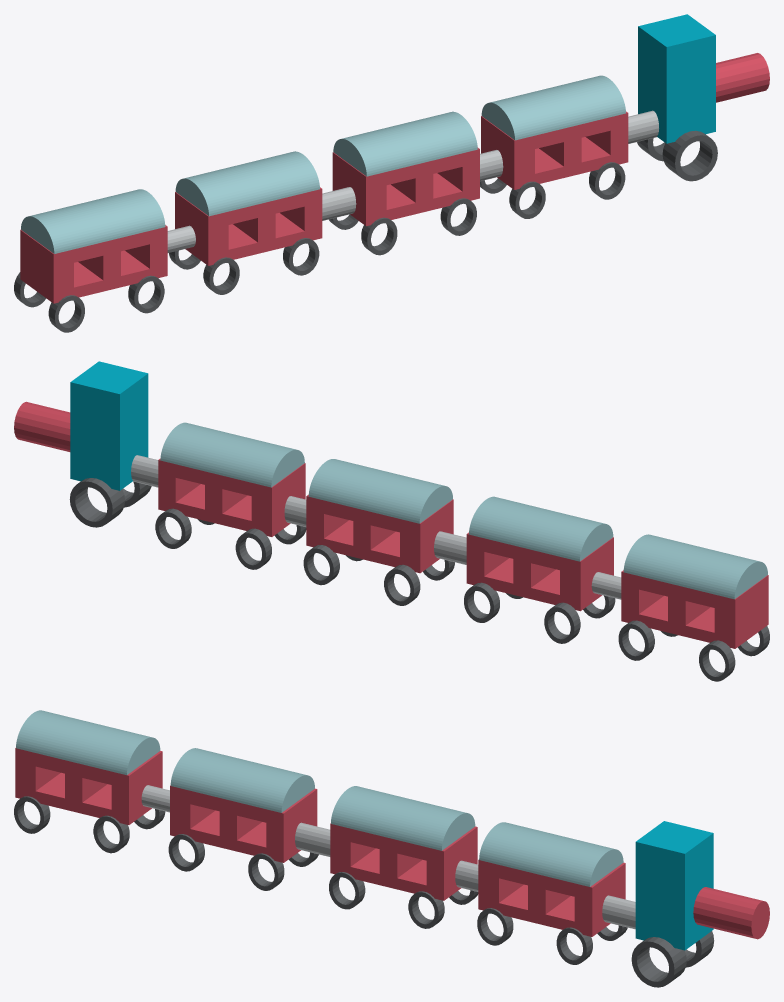
The model's file is Train-model.glb.
3 renders of one model, top to bottom at view 1: azimuth 30°, elevation 25°; view 2: azimuth 150°, elevation 25°; view 3: azimuth 330°, elevation 25°, orthographic.
Visible parts, largest first — view 1: Mesh_Mesh_head_geo.001_lambert2SG.001; view 2: Mesh_Mesh_head_geo.001_lambert2SG.001; view 3: Mesh_Mesh_head_geo.001_lambert2SG.001.
Part boxes in pixels (x1,y1,x2,y2): Mesh_Mesh_head_geo.001_lambert2SG.001: (14, 14, 769, 332); Mesh_Mesh_head_geo.001_lambert2SG.001: (14, 361, 769, 681); Mesh_Mesh_head_geo.001_lambert2SG.001: (14, 710, 769, 987).
Bounding box in the file's own units: 338 × 60 × 35.
